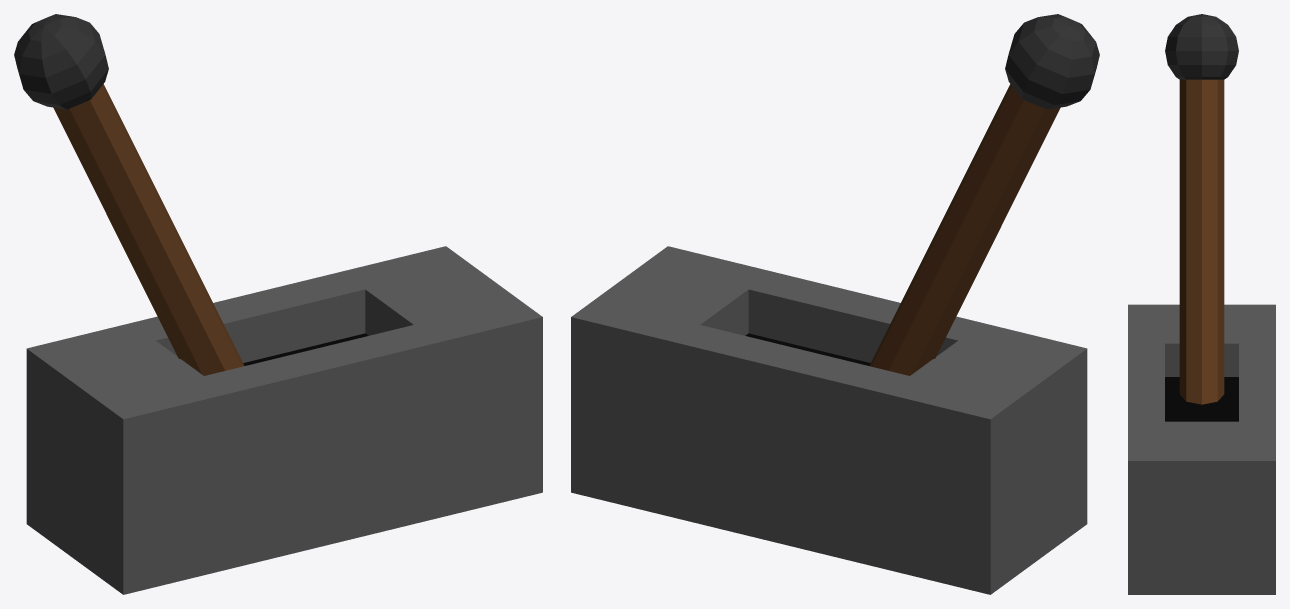
The model's file is lever.glb.
3 renders of one model, left to right at view 1: azimuth 30°, elevation 25°; view 2: azimuth 150°, elevation 25°; view 3: azimuth 270°, elevation 25°, orthographic. The views are drawn at different scales.
Parts seen in each view (by area): view 1: Cube.005, Cube.002, Sphere.001; view 2: Cube.005, Cube.002, Sphere.001; view 3: Cube.005, Cube.002, Sphere.001.
Boxes of the visible parts, <box> form: Cube.005: <box>26,246,542,594</box>; Cube.002: <box>53,84,244,375</box>; Sphere.001: <box>14,14,108,109</box>; Cube.005: <box>571,246,1087,594</box>; Cube.002: <box>869,84,1060,375</box>; Sphere.001: <box>1005,14,1099,109</box>; Cube.005: <box>1128,304,1275,594</box>; Cube.002: <box>1179,79,1224,404</box>; Sphere.001: <box>1165,14,1238,79</box>.
Bounding box in the file's own units: 1.13 × 1.24 × 0.4.
Materials: 1 (1 with a texture image).
